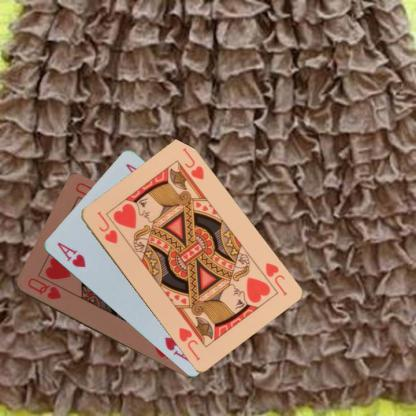Ah: (54, 239, 86, 269)
Jh: (262, 260, 288, 297), (94, 208, 119, 245)
Qh: (25, 276, 62, 301)
